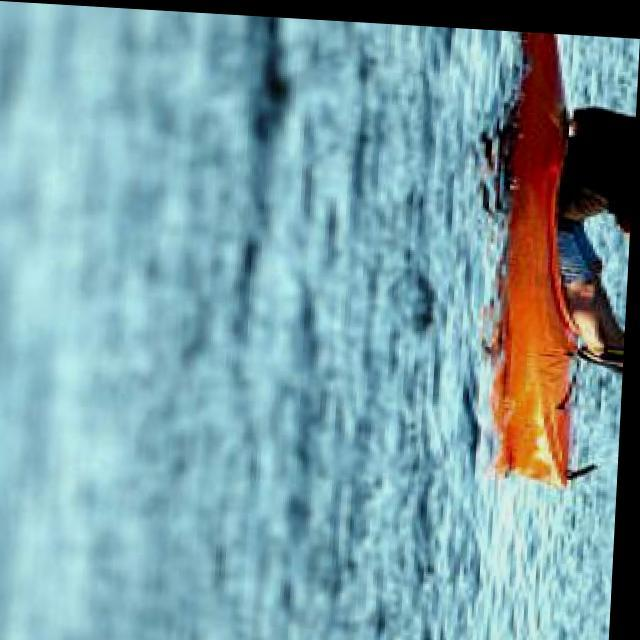kayak: (504, 24, 581, 477)
